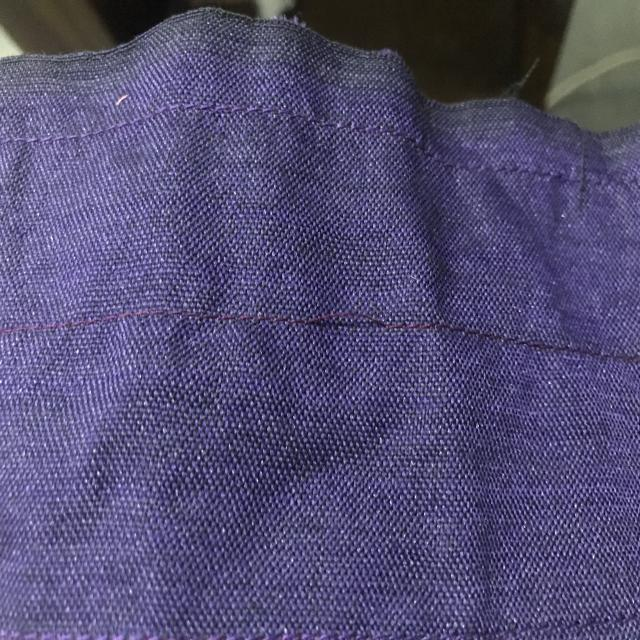good: (457, 316, 544, 362)
skip: (296, 294, 411, 360)
